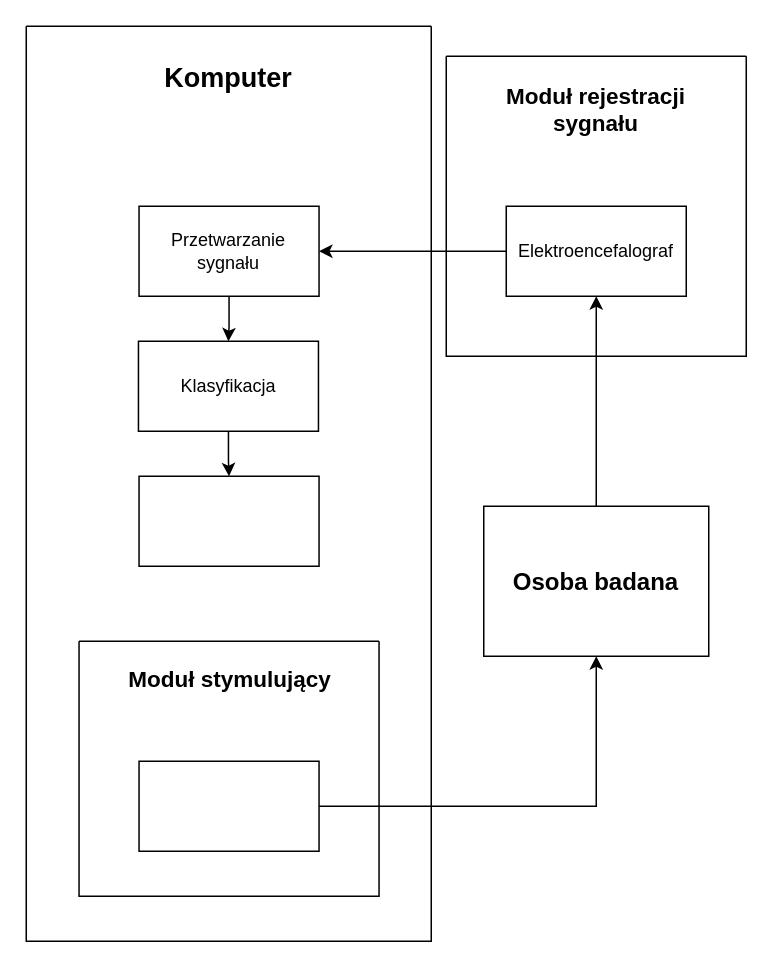
The diagram is 773 pixels wide and 968 high, and some of its shapes have lost their labels. Here are the shapes that lost their labels. From the top down, the centre of each, then its label:
At point (228, 520): "Moduł kontroli kursora".
At point (228, 805): "Ekran LCD".
